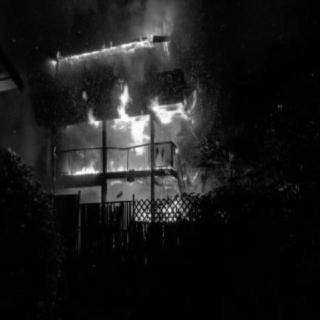Fire: (79, 82, 199, 152)
